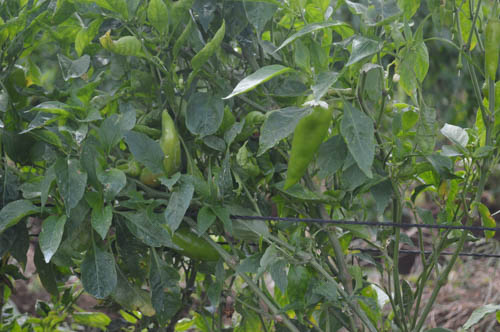ChiliPepper: (280, 104, 330, 195), (159, 110, 185, 178), (172, 227, 220, 259)
